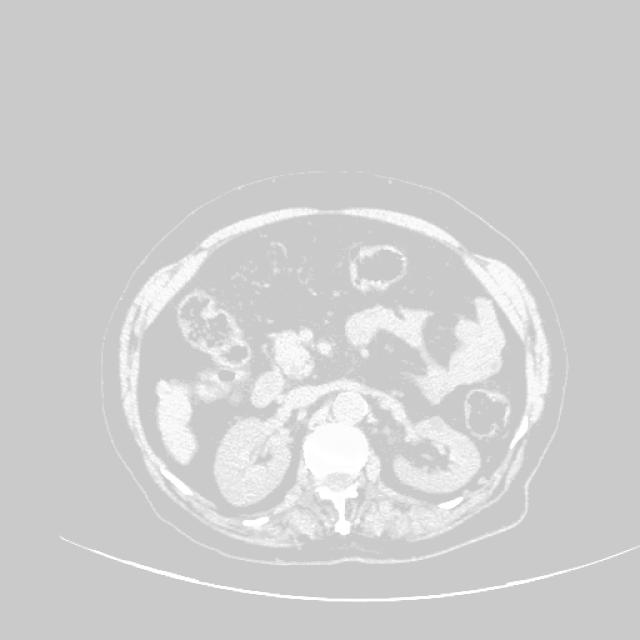cysts: (107, 178, 562, 564)
